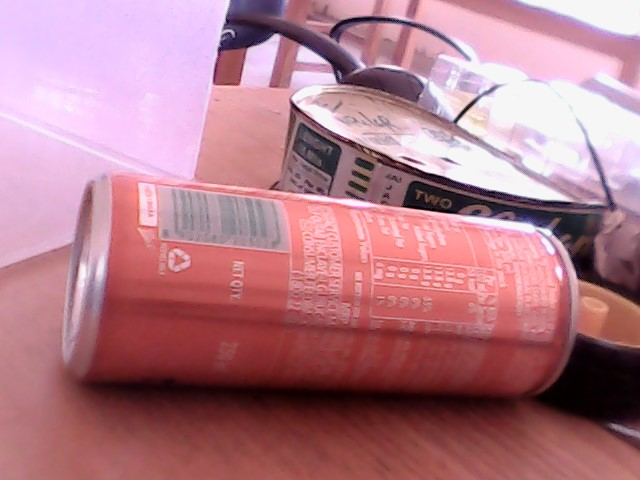Metal: (75, 164, 568, 430)
